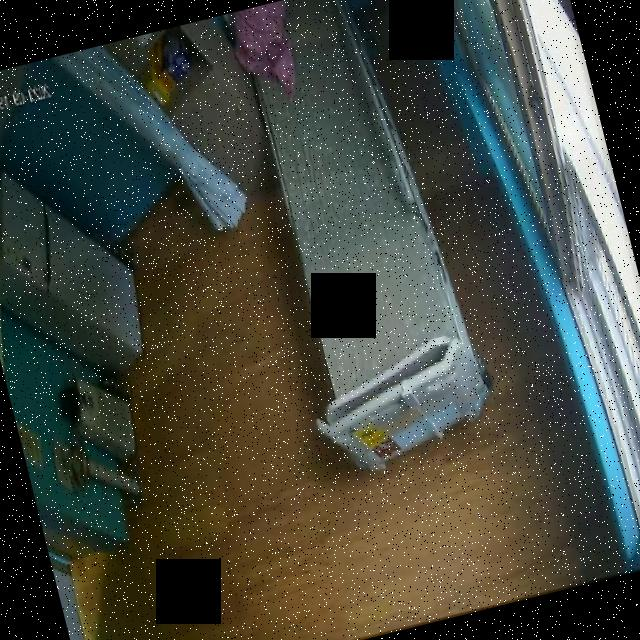bed: (227, 0, 494, 468)
